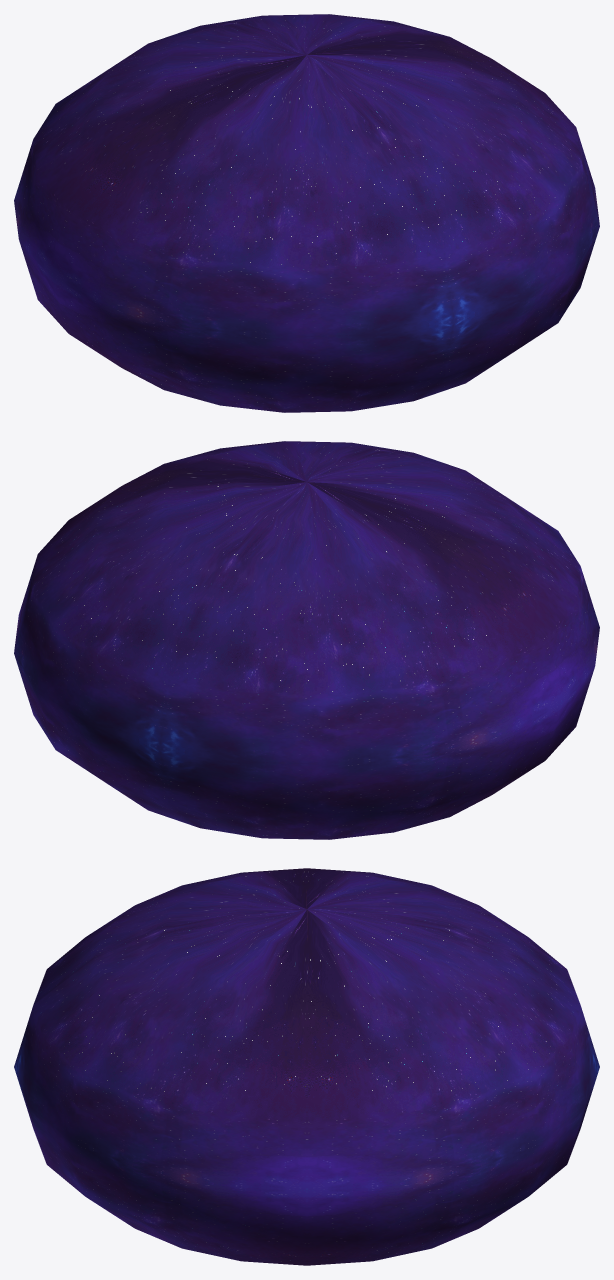
File: Scene_swordroom.FBX
The picture shows the model from 3 angles, top to bottom: view 1: azimuth 30°, elevation 25°; view 2: azimuth 150°, elevation 25°; view 3: azimuth 270°, elevation 25°; orthographic projection.
Visible parts, largest first — view 1: Scene_tiankong; view 2: Scene_tiankong; view 3: Scene_tiankong.
Boxes of the visible parts, x1=… form: Scene_tiankong: x1=14, y1=14, x2=599, y2=412; Scene_tiankong: x1=14, y1=441, x2=599, y2=839; Scene_tiankong: x1=14, y1=868, x2=599, y2=1265.
Size of the model in its own units: 9850 by 5844 by 9850.
